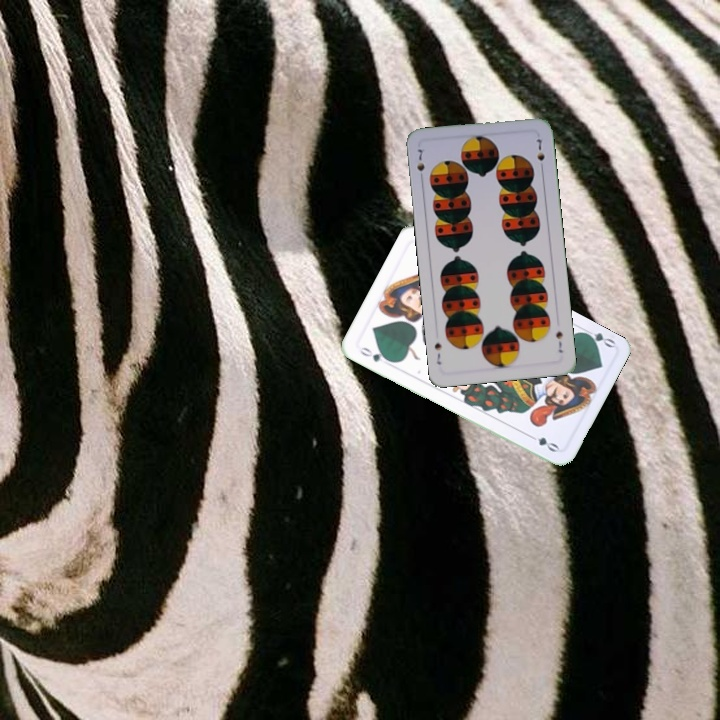GO: (577, 324, 617, 350), (356, 343, 394, 365)
S7: (413, 145, 427, 184), (552, 327, 565, 355)
